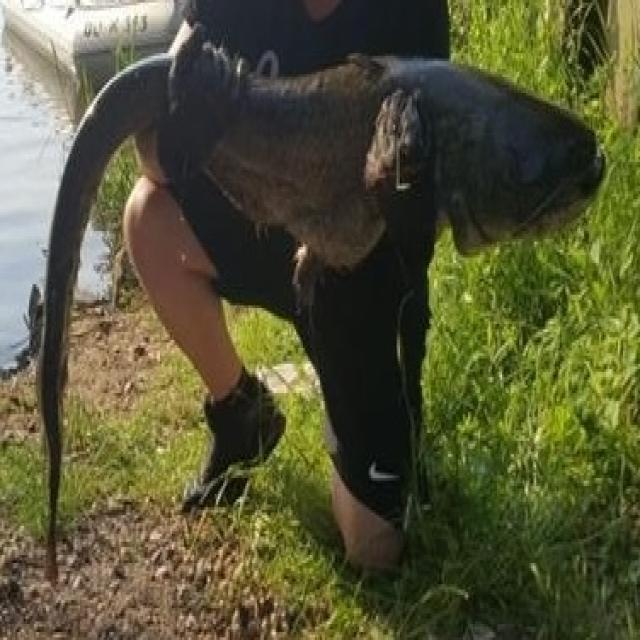Catfish: (17, 6, 621, 597)
